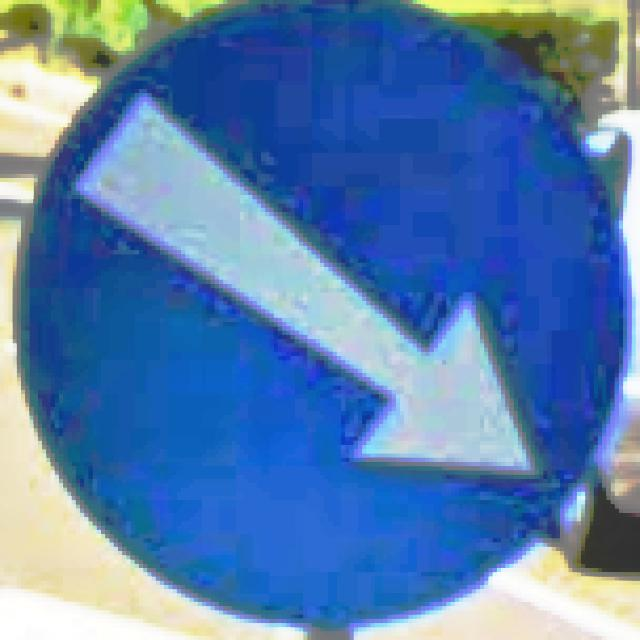thisway: (8, 0, 636, 636)
